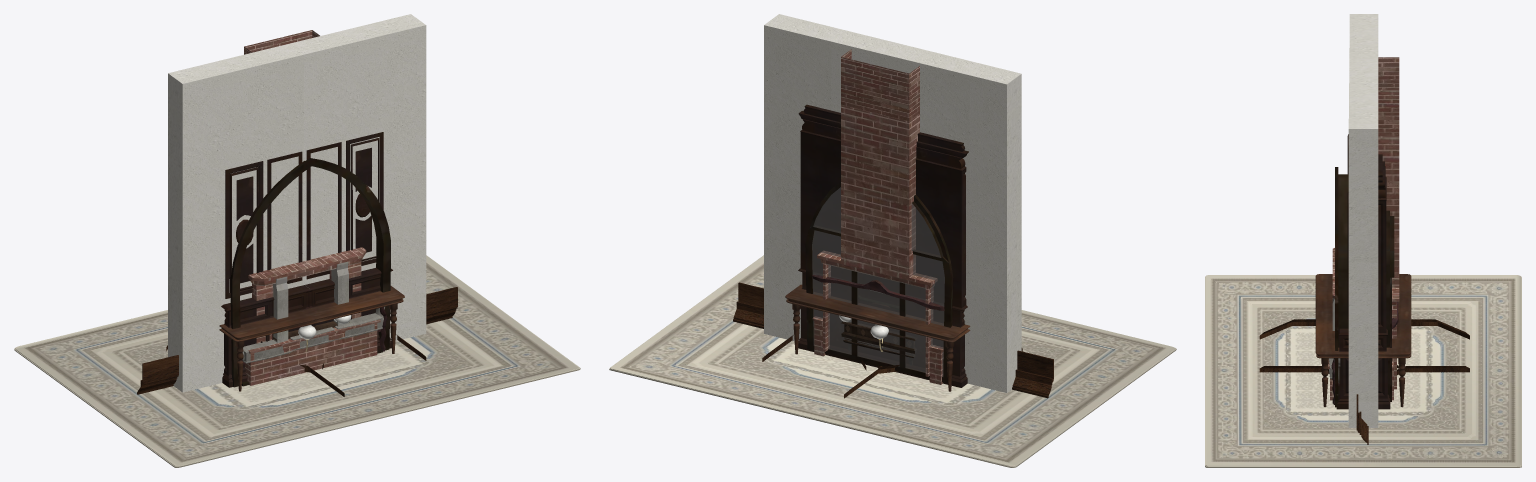
The model's file is kit.glb.
3 views of the same model, side by side, from view 1: azimuth 30°, elevation 25°; view 2: azimuth 150°, elevation 25°; view 3: azimuth 270°, elevation 25° (orthographic). The views are drawn at different scales.
Visible parts, largest first — view 1: wall, rug, bookcase, fireplace, window, table, beam, sofa; view 2: rug, wall, fireplace, bookcase, window, table, beam, coffee, sofa; view 3: rug, wall, fireplace, table, window, bookcase, ceiling, sofa.
Boxes of the visible parts, x1,y1,x2,y2 form: wall: (168, 14, 426, 392); rug: (14, 255, 580, 467); bookcase: (221, 132, 392, 387); fireplace: (244, 30, 380, 385); window: (230, 158, 390, 387); table: (219, 286, 404, 391); beam: (137, 287, 457, 394); sofa: (231, 306, 387, 364); rug: (609, 255, 1176, 467); wall: (764, 14, 1021, 392); fireplace: (812, 49, 943, 384); bookcase: (798, 104, 968, 387); window: (805, 181, 953, 383); table: (785, 284, 970, 391); beam: (733, 282, 1053, 398); coffee: (841, 321, 916, 365); sofa: (812, 274, 944, 310); rug: (1205, 275, 1521, 467); wall: (1348, 14, 1378, 427); fireplace: (1327, 57, 1399, 400); table: (1315, 274, 1411, 407); window: (1332, 167, 1394, 407); bookcase: (1336, 134, 1390, 409); ceiling: (1259, 319, 1469, 375); sofa: (1328, 301, 1398, 404).
Size of the model in its own units: 6.55 by 4.78 by 4.57.
Materials: 19 (19 with a texture image).
